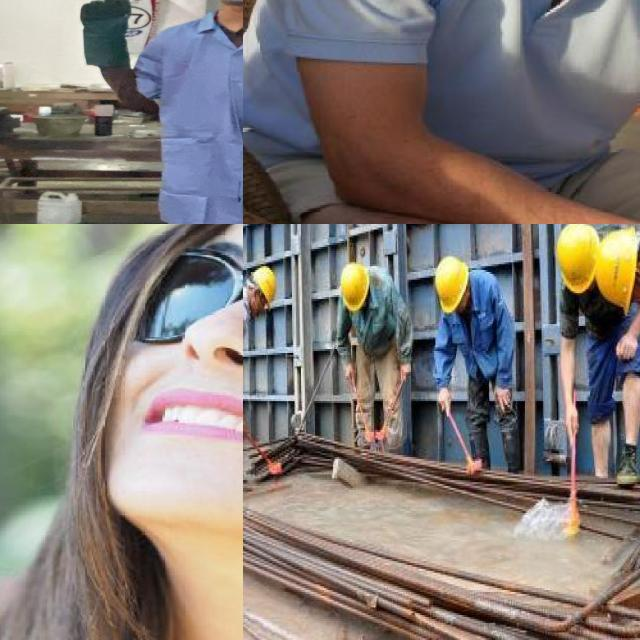face_nomask: (111, 242, 243, 491)
glasses: (134, 244, 243, 371)
hand_glove: (67, 0, 141, 33)
hand_noglove: (605, 330, 640, 364), (560, 408, 582, 438), (393, 356, 416, 382), (434, 384, 454, 412), (491, 382, 512, 408), (338, 361, 359, 384), (243, 402, 248, 431)
head_helmet: (587, 224, 640, 312), (553, 224, 604, 297), (430, 252, 468, 314), (337, 260, 372, 310), (250, 263, 280, 312)
person: (303, 0, 640, 224), (57, 0, 243, 224), (418, 239, 530, 484), (546, 224, 640, 496), (327, 254, 424, 469), (243, 259, 273, 496)
shoes: (610, 438, 640, 488)
